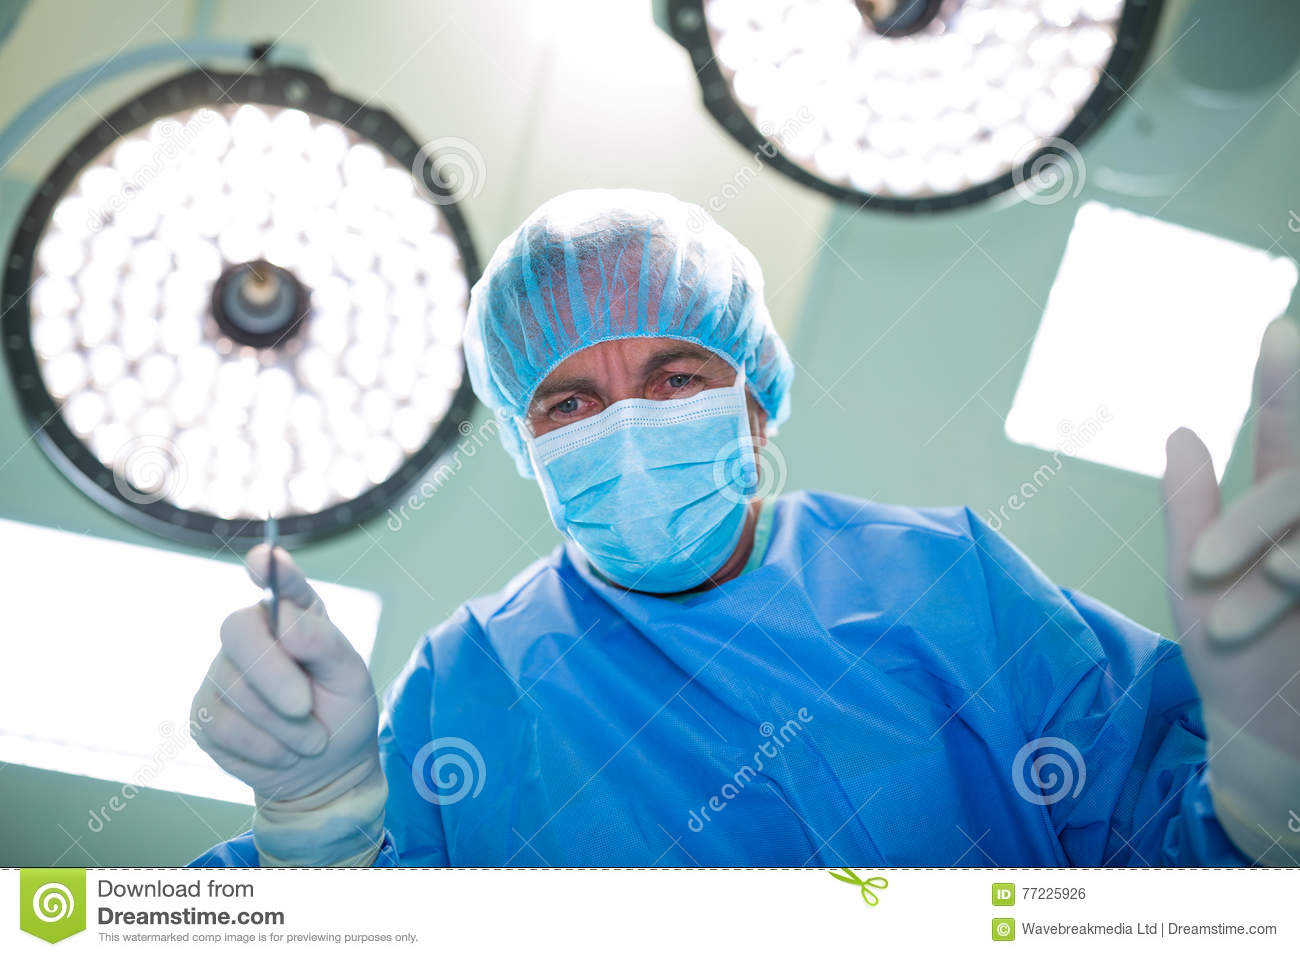mask: (536, 413, 789, 608)
